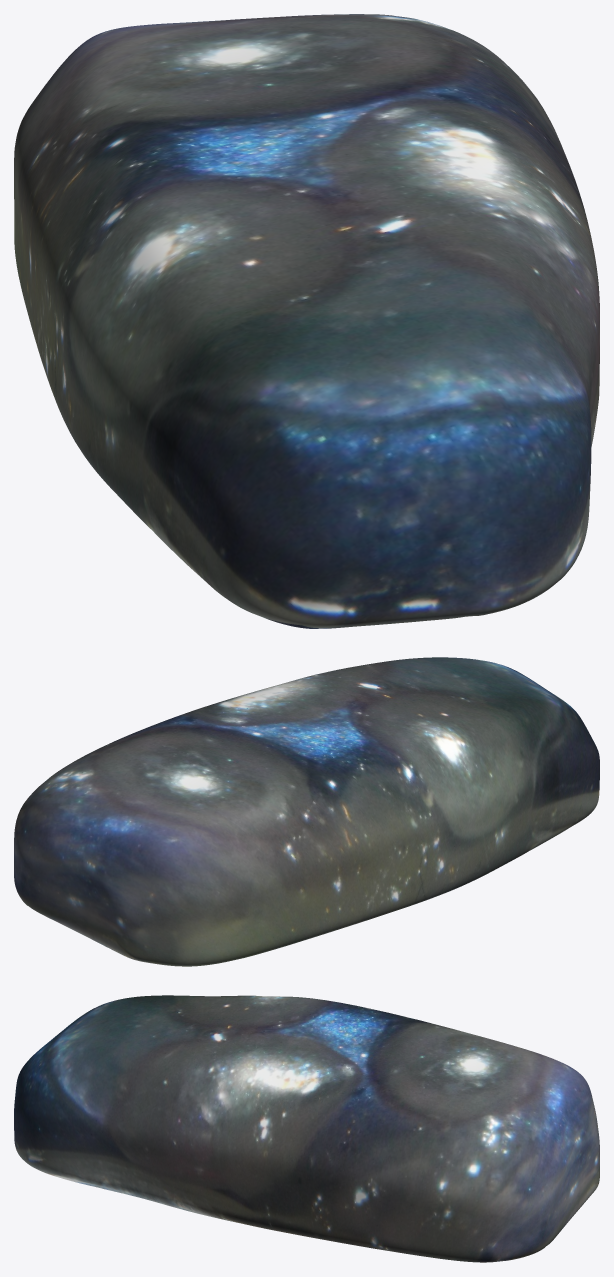
The model's file is blueNail-sub.glb.
3 renders of one model, top to bottom at view 1: azimuth 30°, elevation 25°; view 2: azimuth 150°, elevation 25°; view 3: azimuth 270°, elevation 25°, orthographic. The views are drawn at different scales.
Parts seen in each view (by area): view 1: blue-nail-sub; view 2: blue-nail-sub; view 3: blue-nail-sub.
Part boxes in pixels (x1,y1,x2,y2): blue-nail-sub: (14, 14, 599, 628); blue-nail-sub: (14, 657, 599, 966); blue-nail-sub: (14, 995, 599, 1262).
Bounding box in the file's own units: 940 × 347 × 1343.
1 material, 1 textured.
